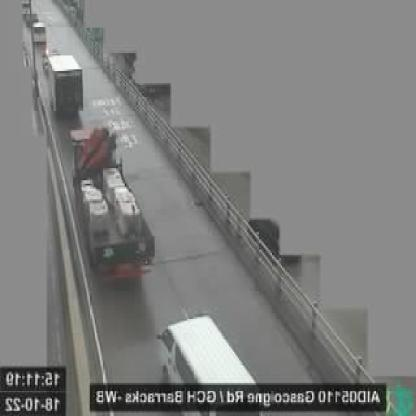Car: (157, 316, 268, 410), (31, 22, 48, 45)
Truck: (68, 124, 157, 282), (46, 54, 84, 116)
